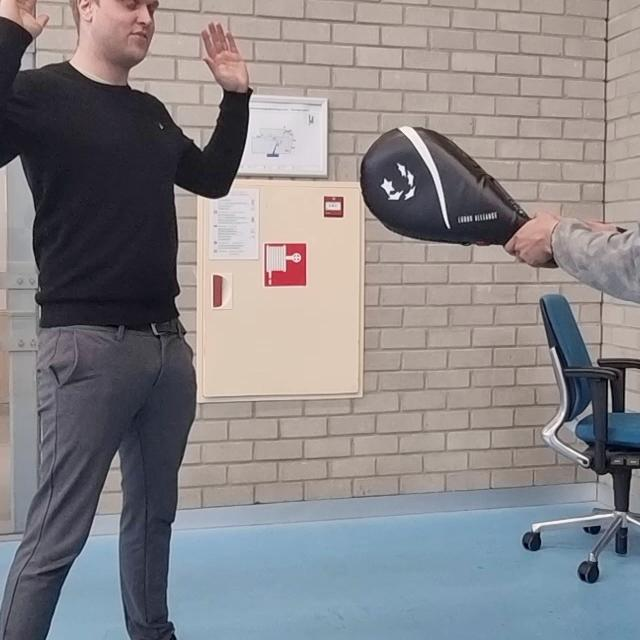paddle: (361, 125, 533, 247)
